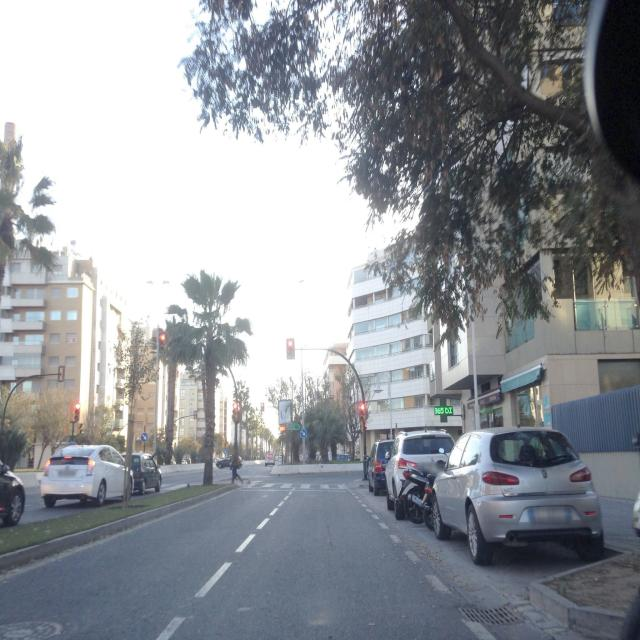bike: (395, 462, 444, 525)
car: (428, 426, 604, 564), (385, 427, 455, 516), (39, 444, 132, 508), (0, 442, 26, 538), (120, 452, 162, 495), (366, 438, 396, 496), (216, 454, 233, 469), (264, 452, 275, 467)
